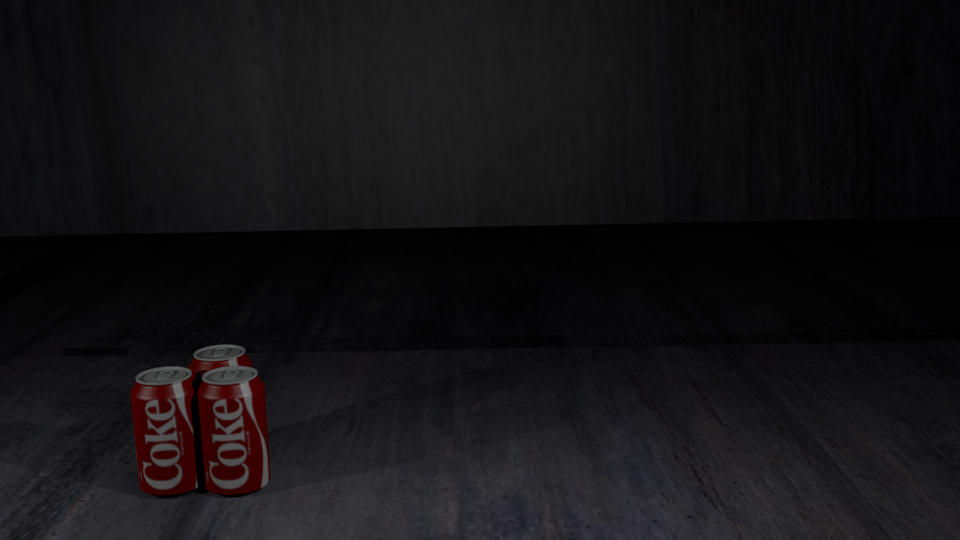cola_can: (131, 367, 201, 492), (197, 366, 267, 490), (189, 345, 250, 462)
